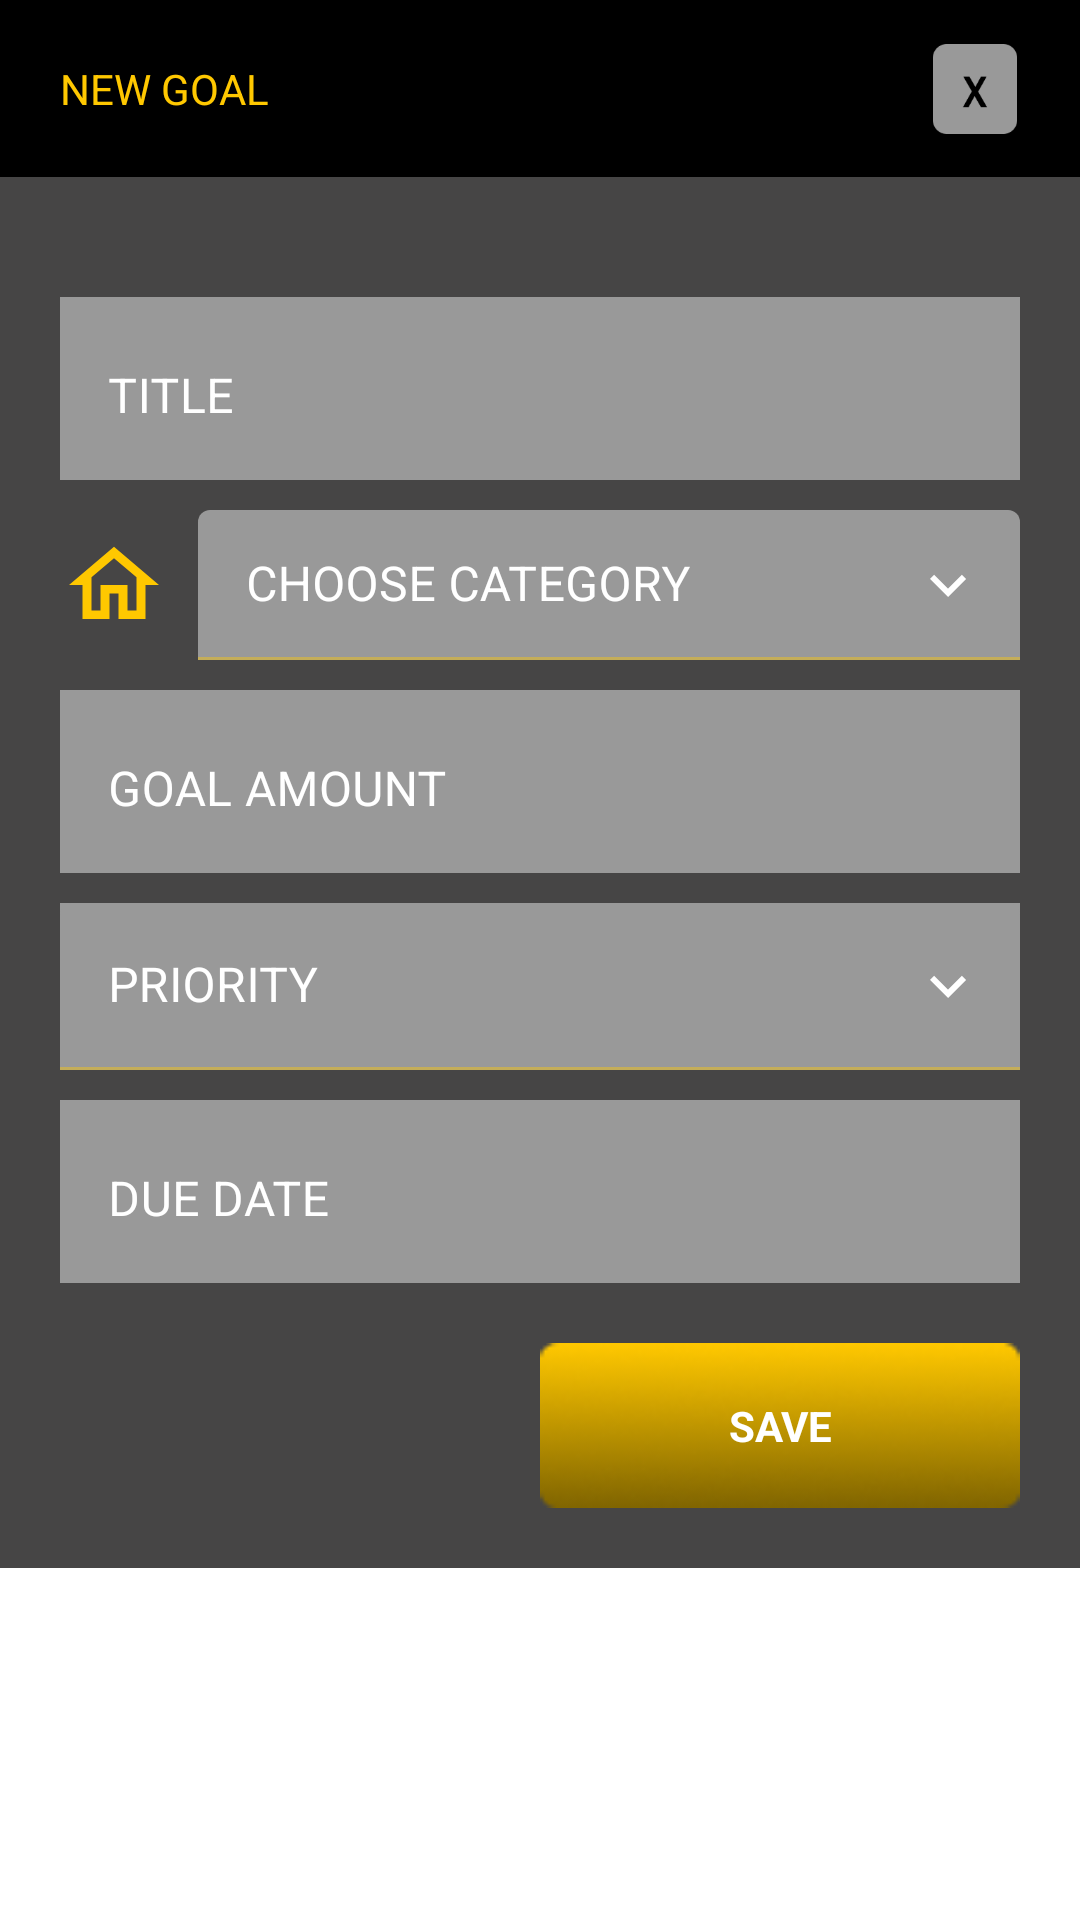

Where icons sit on this 1080w x 1920h app screen, as (x1, y1, x2, y2):
cancel: (933, 44, 1017, 134)
home: (69, 547, 159, 619)
